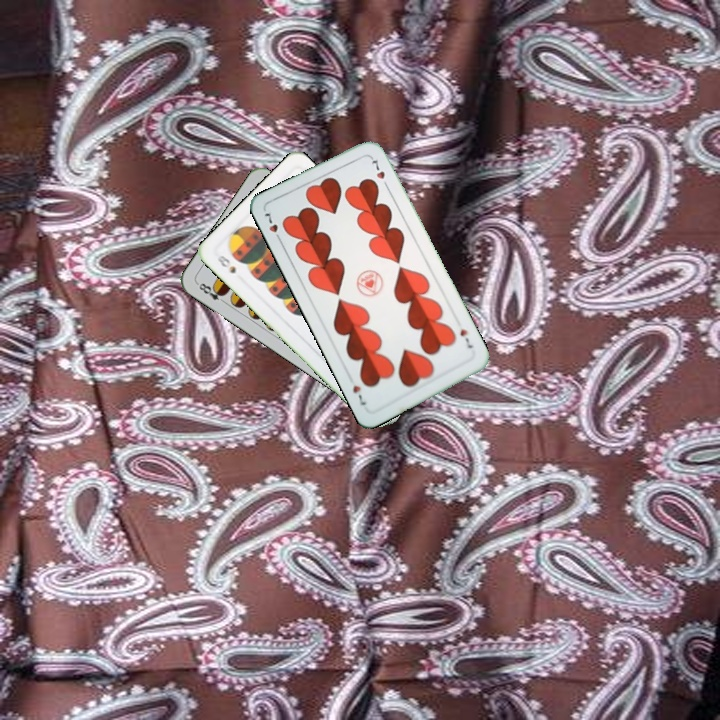E8: (193, 279, 229, 307)
H7: (260, 209, 284, 245), (456, 325, 475, 351)
S8: (211, 251, 238, 276)
